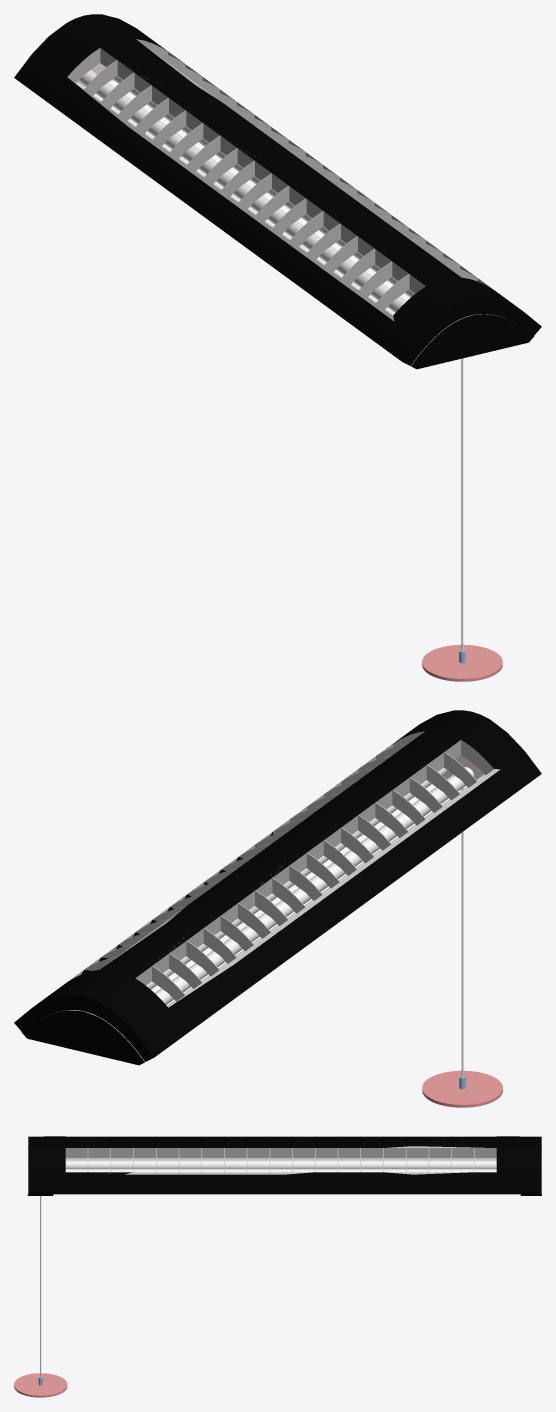
The model's file is one_pole.fbx.
3 views of the same model, one above another, from view 1: azimuth 30°, elevation 25°; view 2: azimuth 150°, elevation 25°; view 3: azimuth 270°, elevation 25° (orthographic). The views are drawn at different scales.
Visible parts, largest first — view 1: Body1, Body3; view 2: Body1, Body3; view 3: Body1, Body3.
Boxes of the visible parts, x1,y1,x2,y2 form: Body1: (14,14,541,369); Body3: (422,358,502,681); Body1: (14,710,541,1065); Body3: (422,787,502,1107); Body1: (27,1136,541,1195); Body3: (14,1196,67,1397).
Size of the model in its own units: 25.4 by 64.5 by 125.
